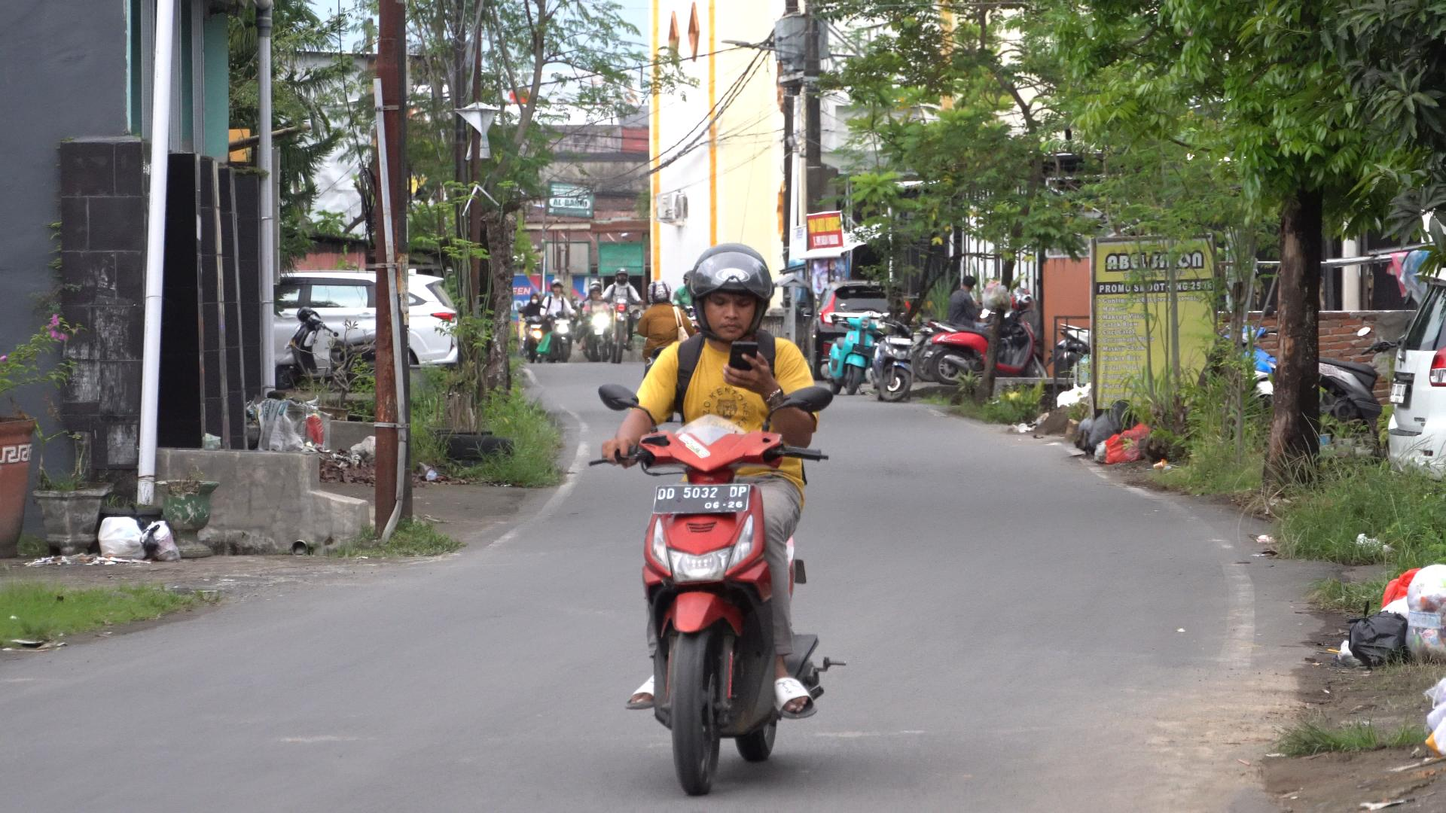number-plate: (649, 480, 753, 513)
